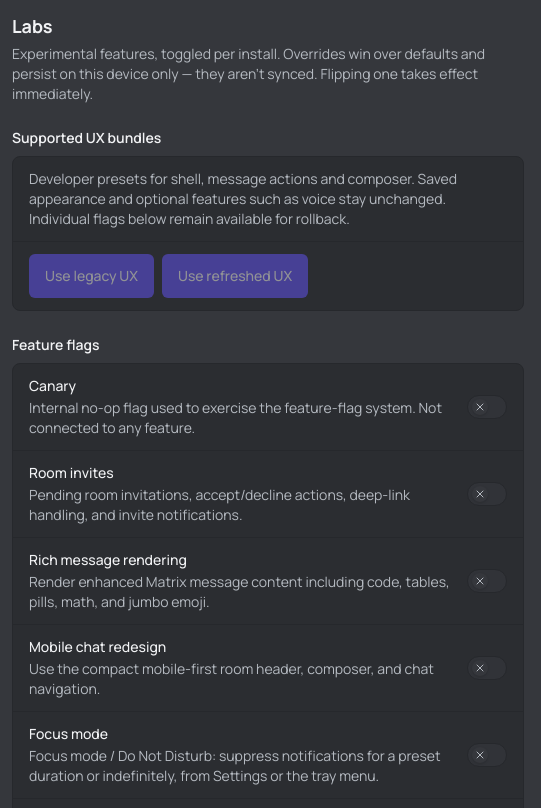
Test case: LabsPanel › reports rejected flag changes without exposing backend errors
The image size is (541, 808).
Click the switch named "Toggle Canary". click: (487, 407)
box: [467,395,507,419]
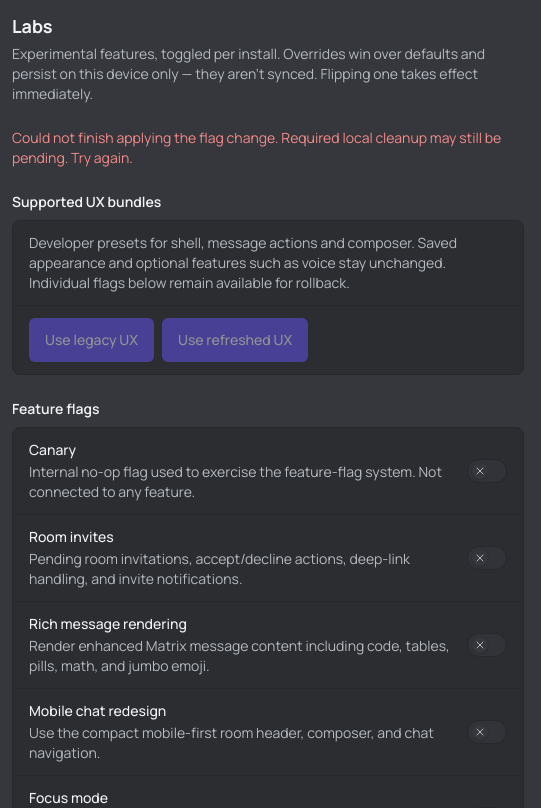
Expected: the switch named "Toggle Canary" is not checked, [467,459,507,483]
Expected: the message shows "Could not finish applying the flag change", [12,128,501,167]
